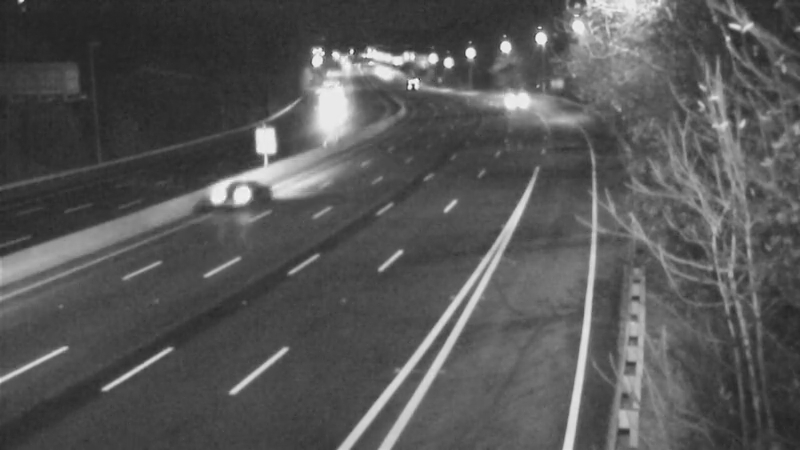vehicle: (194, 155, 274, 235), (386, 62, 436, 112), (484, 79, 534, 129)
